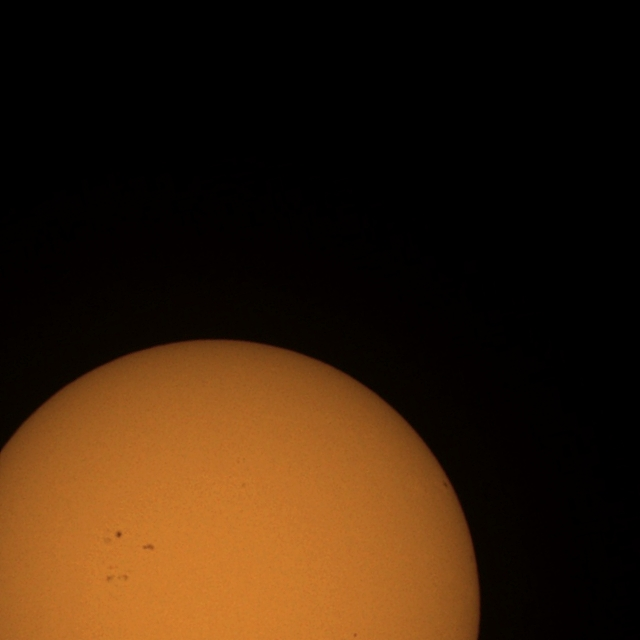sunspot: (105, 564, 130, 584), (103, 528, 125, 542), (142, 542, 156, 552), (115, 529, 124, 539), (442, 480, 449, 490), (352, 632, 359, 640)
